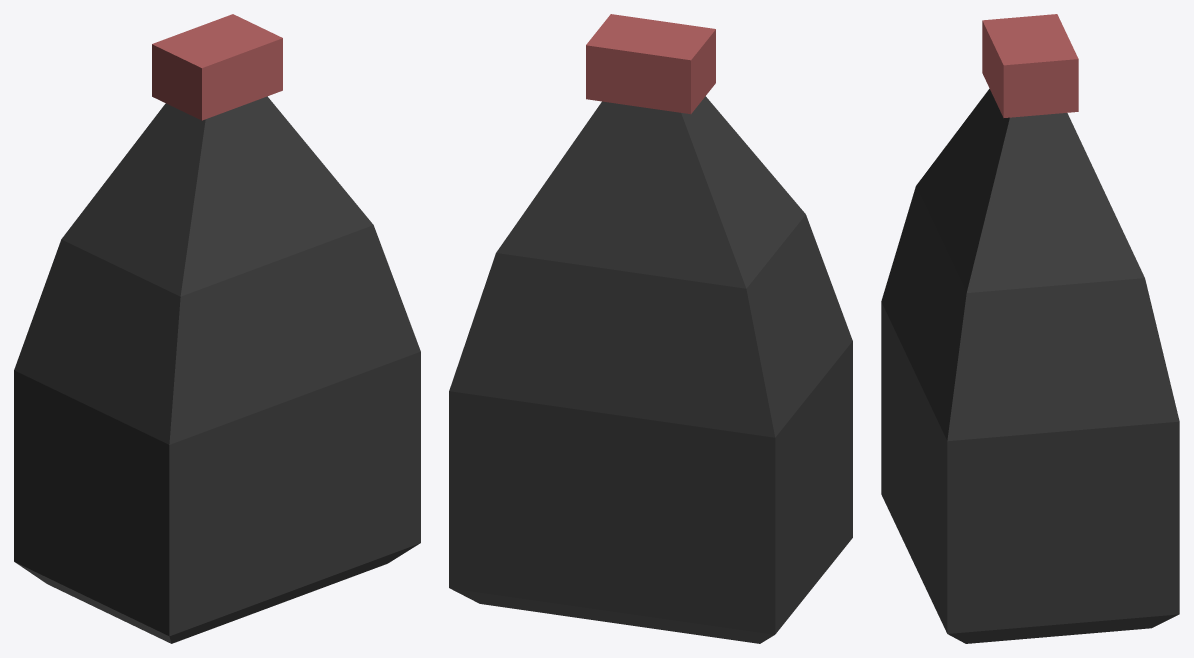
Rendered from Kitchen_Bottle6.fbx.
3 renders of one model, left to right at view 1: azimuth 30°, elevation 25°; view 2: azimuth 150°, elevation 25°; view 3: azimuth 270°, elevation 25°, orthographic. The views are drawn at different scales.
Visible parts, largest first — view 1: Kitchen_Bottle6; view 2: Kitchen_Bottle6; view 3: Kitchen_Bottle6.
Boxes of the visible parts, left/top/right/bottom form: Kitchen_Bottle6: left=14, top=14, right=420, bottom=643; Kitchen_Bottle6: left=449, top=14, right=852, bottom=643; Kitchen_Bottle6: left=881, top=14, right=1179, bottom=643.
Size of the model in its own units: 13.33 by 20.93 by 10.55.
